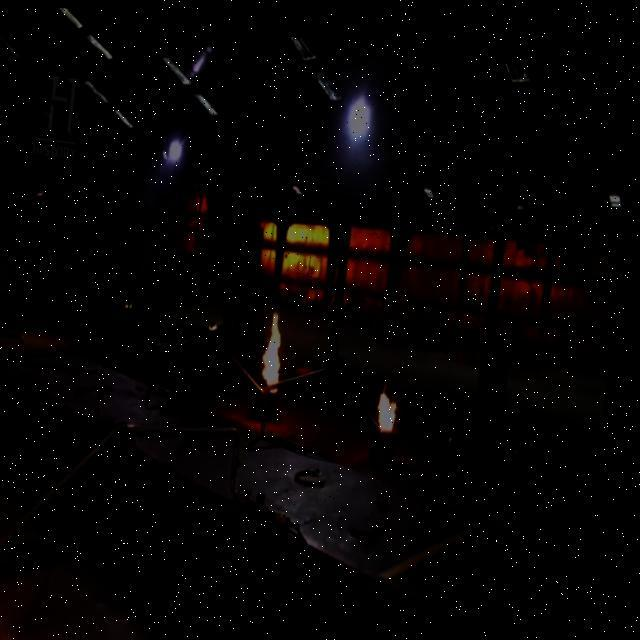Fire: (262, 216, 334, 280), (259, 304, 301, 392), (376, 376, 409, 424)
